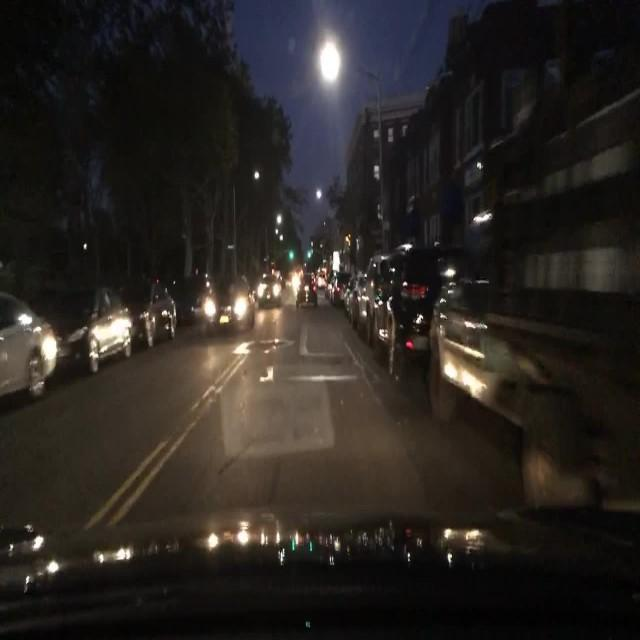normal: (3, 236, 273, 416)
